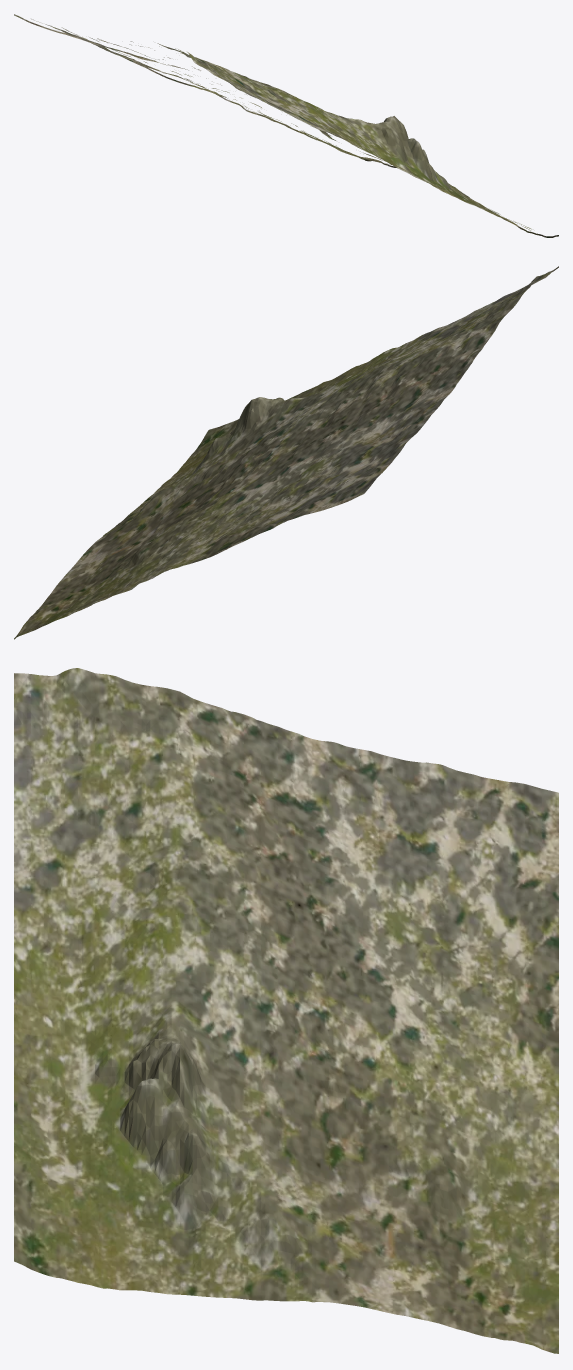
3 renders of one model, top to bottom at view 1: azimuth 30°, elevation 25°; view 2: azimuth 150°, elevation 25°; view 3: azimuth 270°, elevation 25°, orthographic. The views are drawn at different scales.
Size of the model in its own units: 250 by 219 by 241.
1 material, 1 textured.
